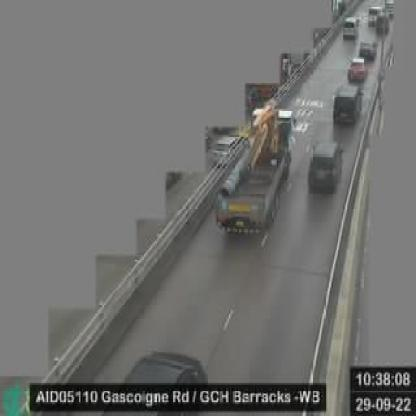Car: (108, 352, 212, 414), (307, 130, 344, 203), (326, 81, 362, 130), (340, 55, 374, 85), (340, 10, 358, 42), (356, 38, 382, 59), (372, 7, 390, 36), (368, 2, 383, 24)
Truck: (212, 104, 295, 246)
